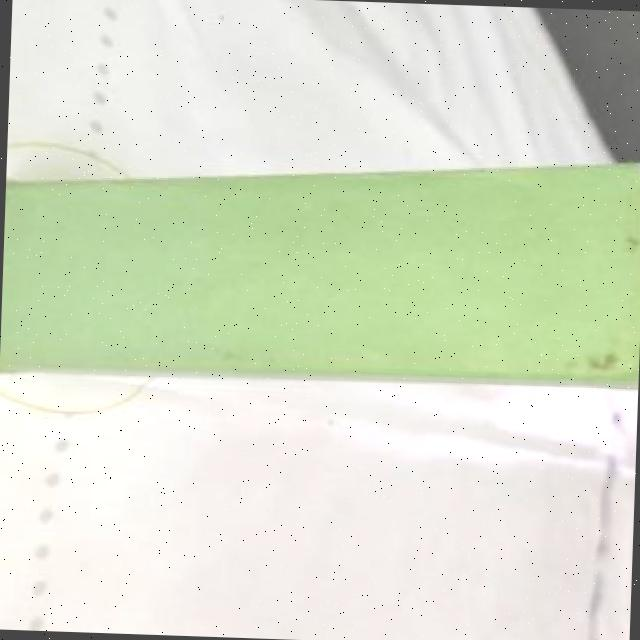greenbox: (0, 140, 640, 395)
